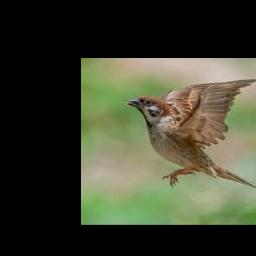Sparrow: (124, 79, 256, 191)
